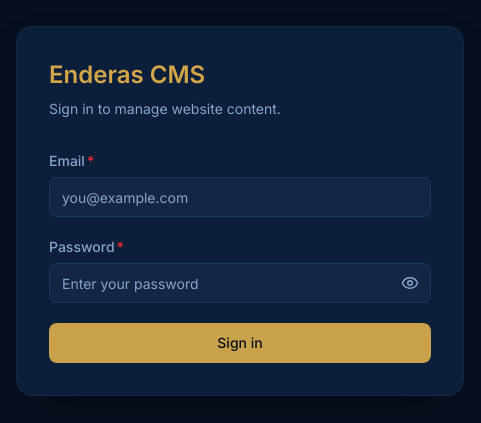
Test case: LoginPage › shows validation error for invalid email
Type "not-an-email" into the field labelled "Email*". click: (240, 197)
box: [49,177,431,217]
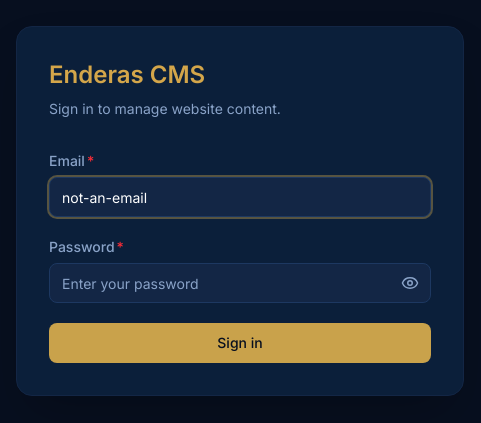
Type "secret" into the password field labelled "Password*". click: (240, 283)
box: [49,263,431,303]
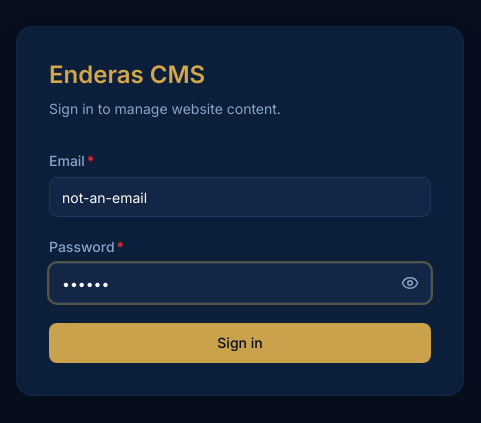
Click the button "Sign in". click: (240, 343)
box: [49,323,431,363]
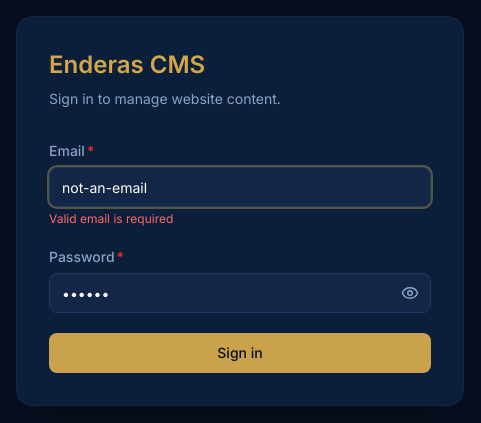
expect the text "Valid email is required" is shown: met, box [49,211,173,226]
